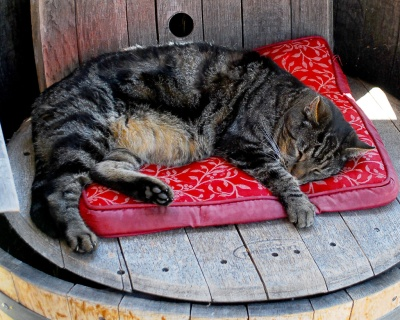Cat: (25, 37, 376, 255)
